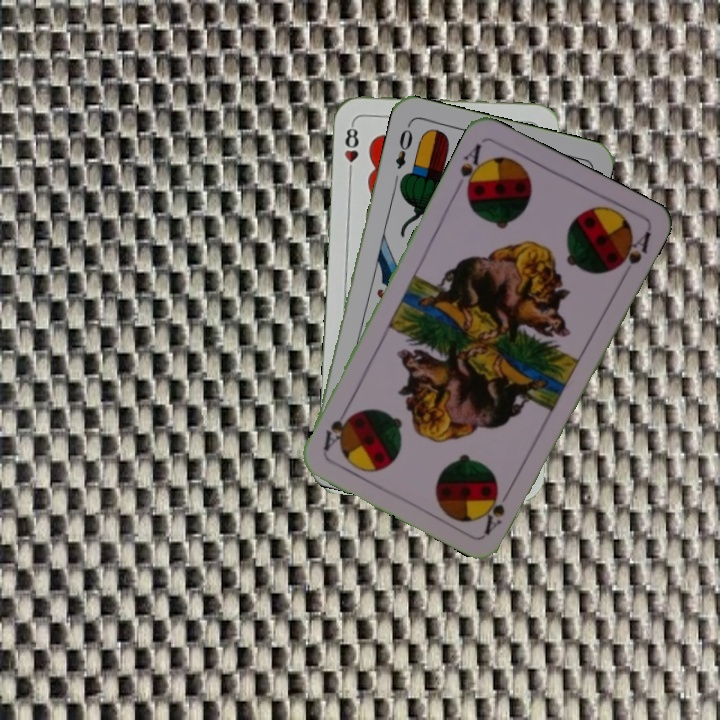EO: (391, 120, 415, 172)
H8: (341, 120, 361, 179)
SA: (480, 482, 516, 537), (456, 139, 488, 199)
